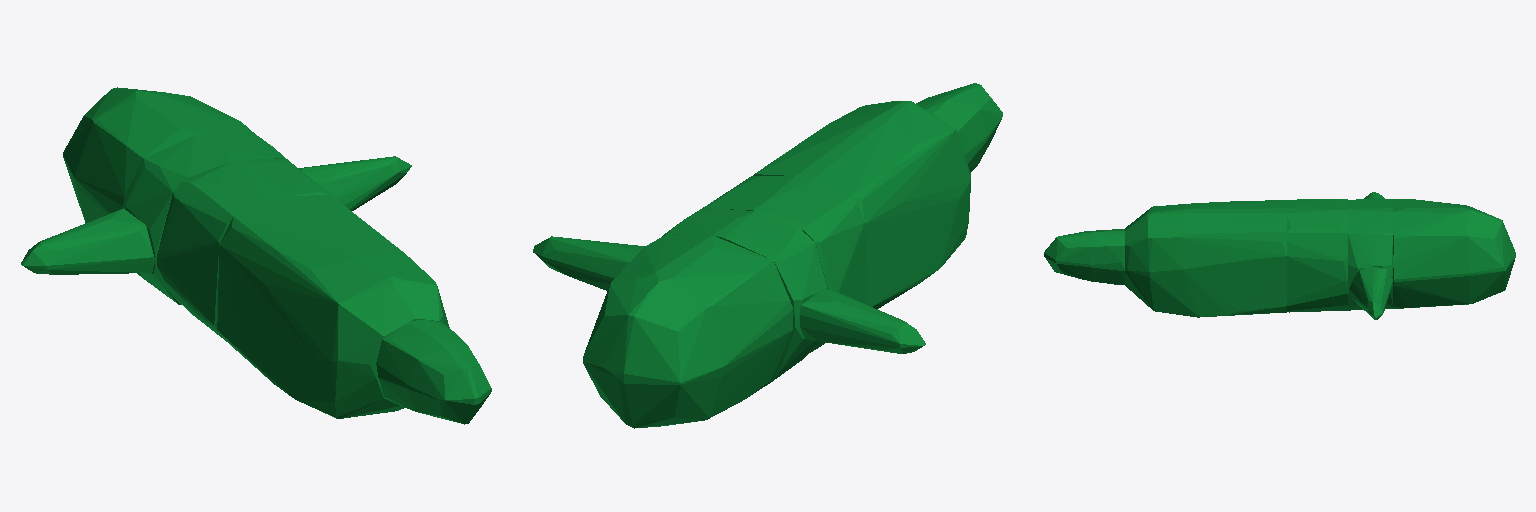
URDF robot description (blob326):
<robot name="blob326">
  <link name="random_obj_326">
    <contact>
      <lateral_friction value="1.0"/>
      <rolling_friction value="0.0"/>
      <inertia_scaling value="3.0"/>
      <contact_cfm value="0.0"/>
      <contact_erp value="1.0"/>
    </contact>
    <inertial>
      <origin rpy="0 0 0" xyz="0 0 0"/>
      <mass value="0.1"/>
      <inertia ixx="1" ixy="0" ixz="0" iyy="1" iyz="0" izz="0"/>
    </inertial>
    <visual>
      <origin rpy="0 0 0" xyz="0 0 0"/>
      <geometry>
        <mesh filename="326.obj" scale="0.015 0.015 0.015"/>
      </geometry>
      <material name="blockmat">
        <color rgba="0.11 0.57 0.27 1"/>
      </material>
    </visual>
    <collision>
      <origin rpy="0 0 0" xyz="0 0 0"/>
      <geometry>
        <mesh filename="326.obj" scale="0.015 0.015 0.015"/>
      </geometry>
    </collision>
  </link>
</robot>

--- Facts derived from the render (not from the file) ---
Views: 3 orthographic renders of the robot side by side, from view 1: azimuth 30°, elevation 25°; view 2: azimuth 150°, elevation 25°; view 3: azimuth 270°, elevation 25°.
Robot: blob326 — 1 links, 0 joints (none); root link random_obj_326; default pose: every joint at zero.
Links seen in each view (by area): view 1: random_obj_326; view 2: random_obj_326; view 3: random_obj_326.
Link boxes in pixels (left/top/right/bottom): random_obj_326: left=21, top=87, right=491, bottom=424; random_obj_326: left=533, top=83, right=1002, bottom=428; random_obj_326: left=1044, top=192, right=1515, bottom=319.
Bounding box of the posed robot: 0.0913 × 0.1497 × 0.032 m (x, y, z).
Meshes: 1 distinct files referenced, 1 mesh visuals loaded (1 OBJ).